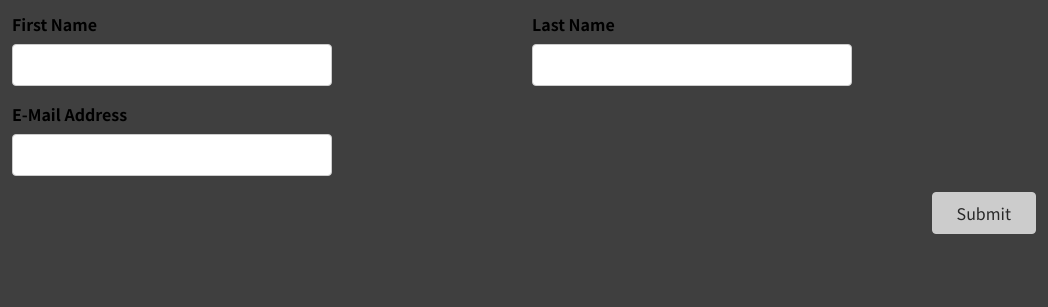
Test: BasicForm › displays an error if input not valid and user clicks away
Click the field labelled "First Name" at (172, 65), box [12,44,332,86]
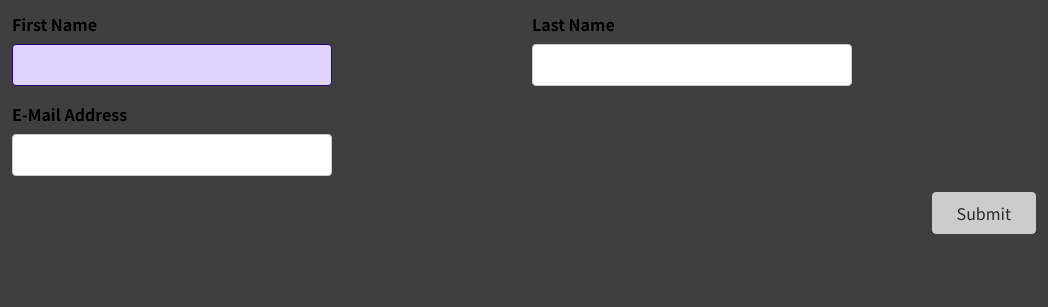
Click the element with test id "first-name-container" at (172, 49), box [12,12,332,86]
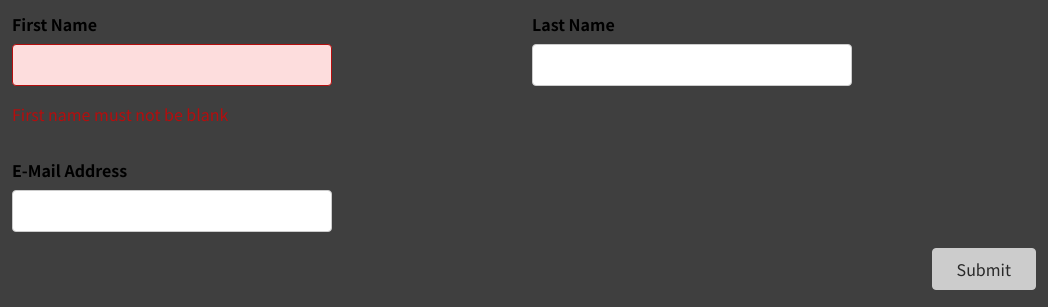
Expected: the button "Submit" is disabled, [932,248,1036,290]
Now the text "First name must not be blank" is shown, box [12,102,228,126]
